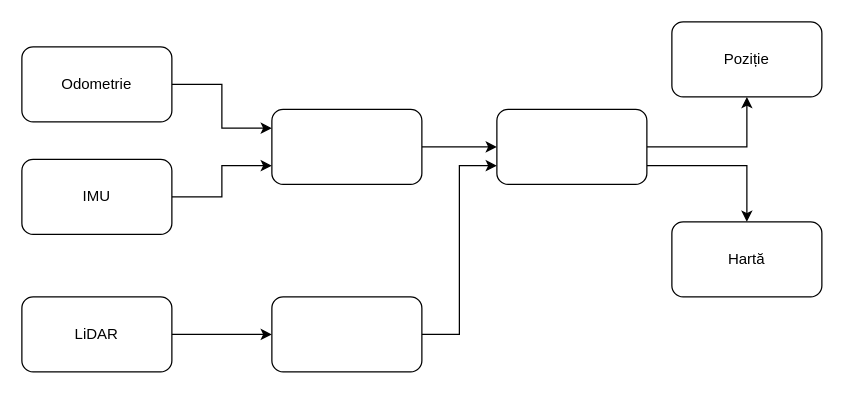
This 844x394 diagram has some shape labels left out. Here are the shapes that lost their labels. From the top down, the box of each, then its label:
(271, 108, 422, 184): Estimare poziție
(496, 108, 647, 184): Scan matching
(271, 296, 422, 372): Preprocesare
